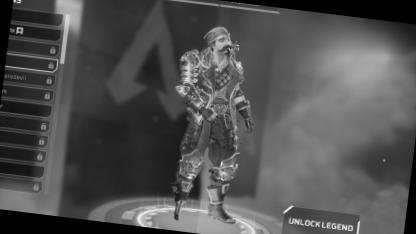Target: (163, 18, 261, 186)
